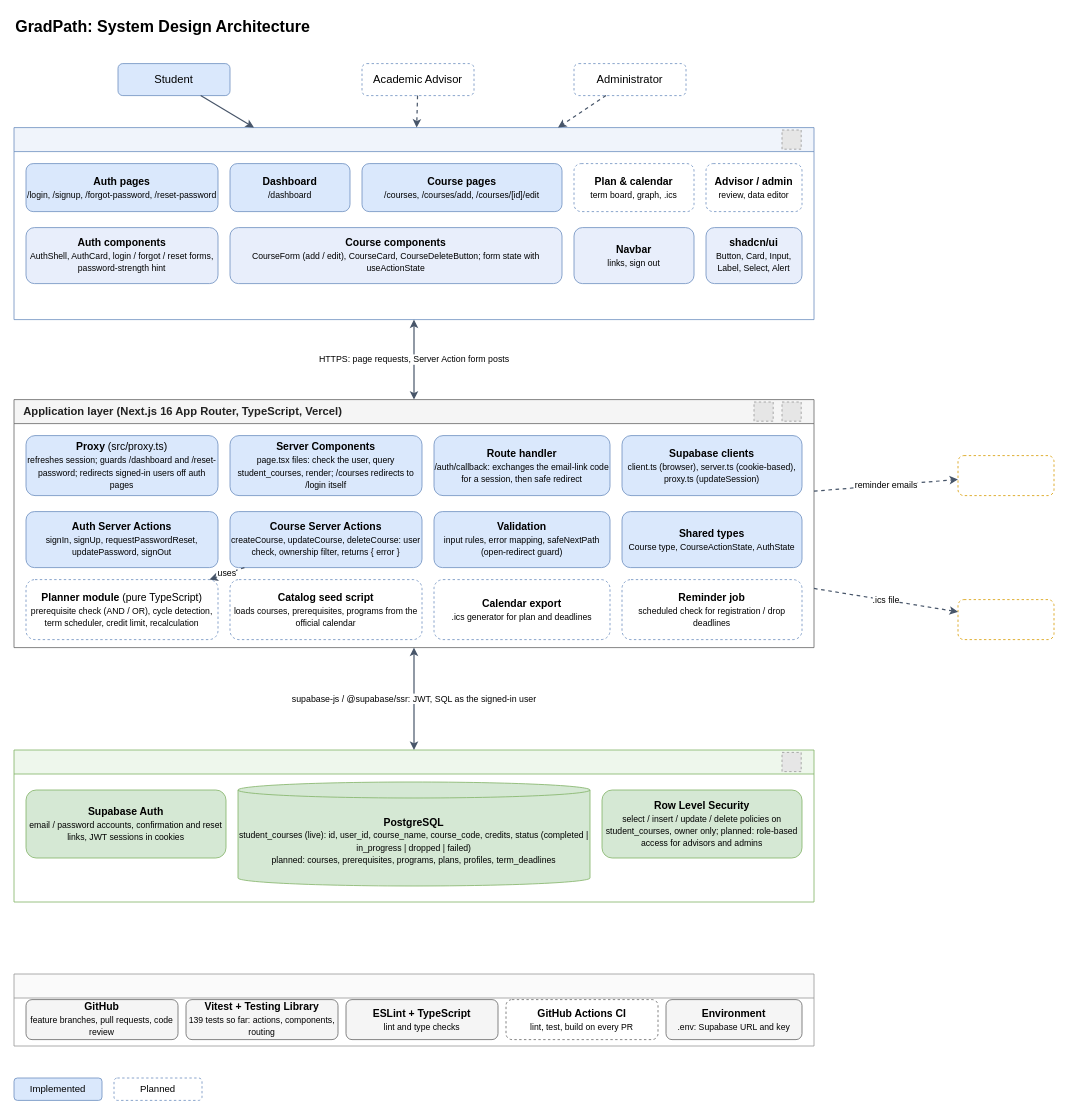
The diagram is 1068 pixels wide and 1114 high, and some of its shapes have lost their labels. Grey dashed boxes stand in for pictures. Each missing label, with the box of its shape:
Calendar apps: (957, 599, 1054, 640)
Data and identity layer (Supabase): (13, 749, 814, 902)
Development and quality: (13, 973, 814, 1046)
Email provider: (957, 455, 1054, 496)
Presentation layer (browser: React 19, Tailwind CSS, shadcn/ui): (13, 127, 814, 320)
